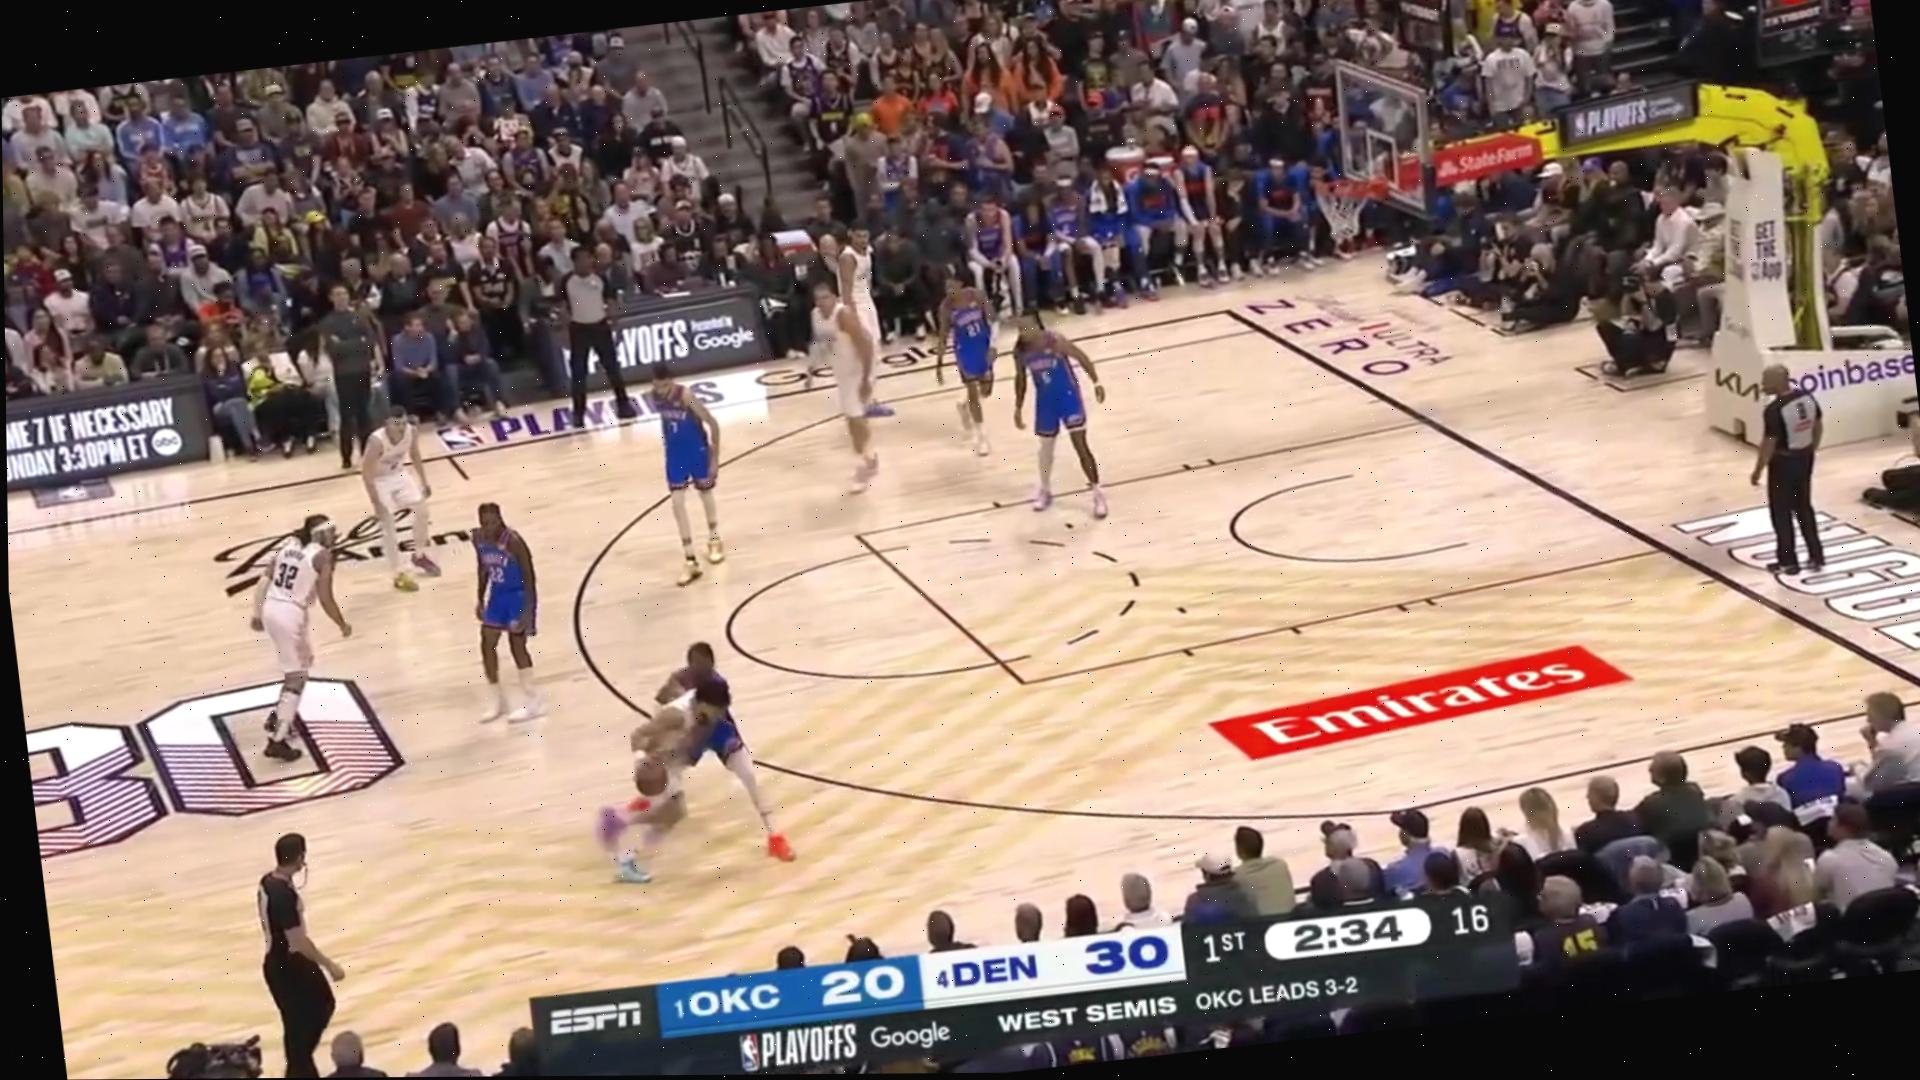foul: (574, 617, 827, 901)
